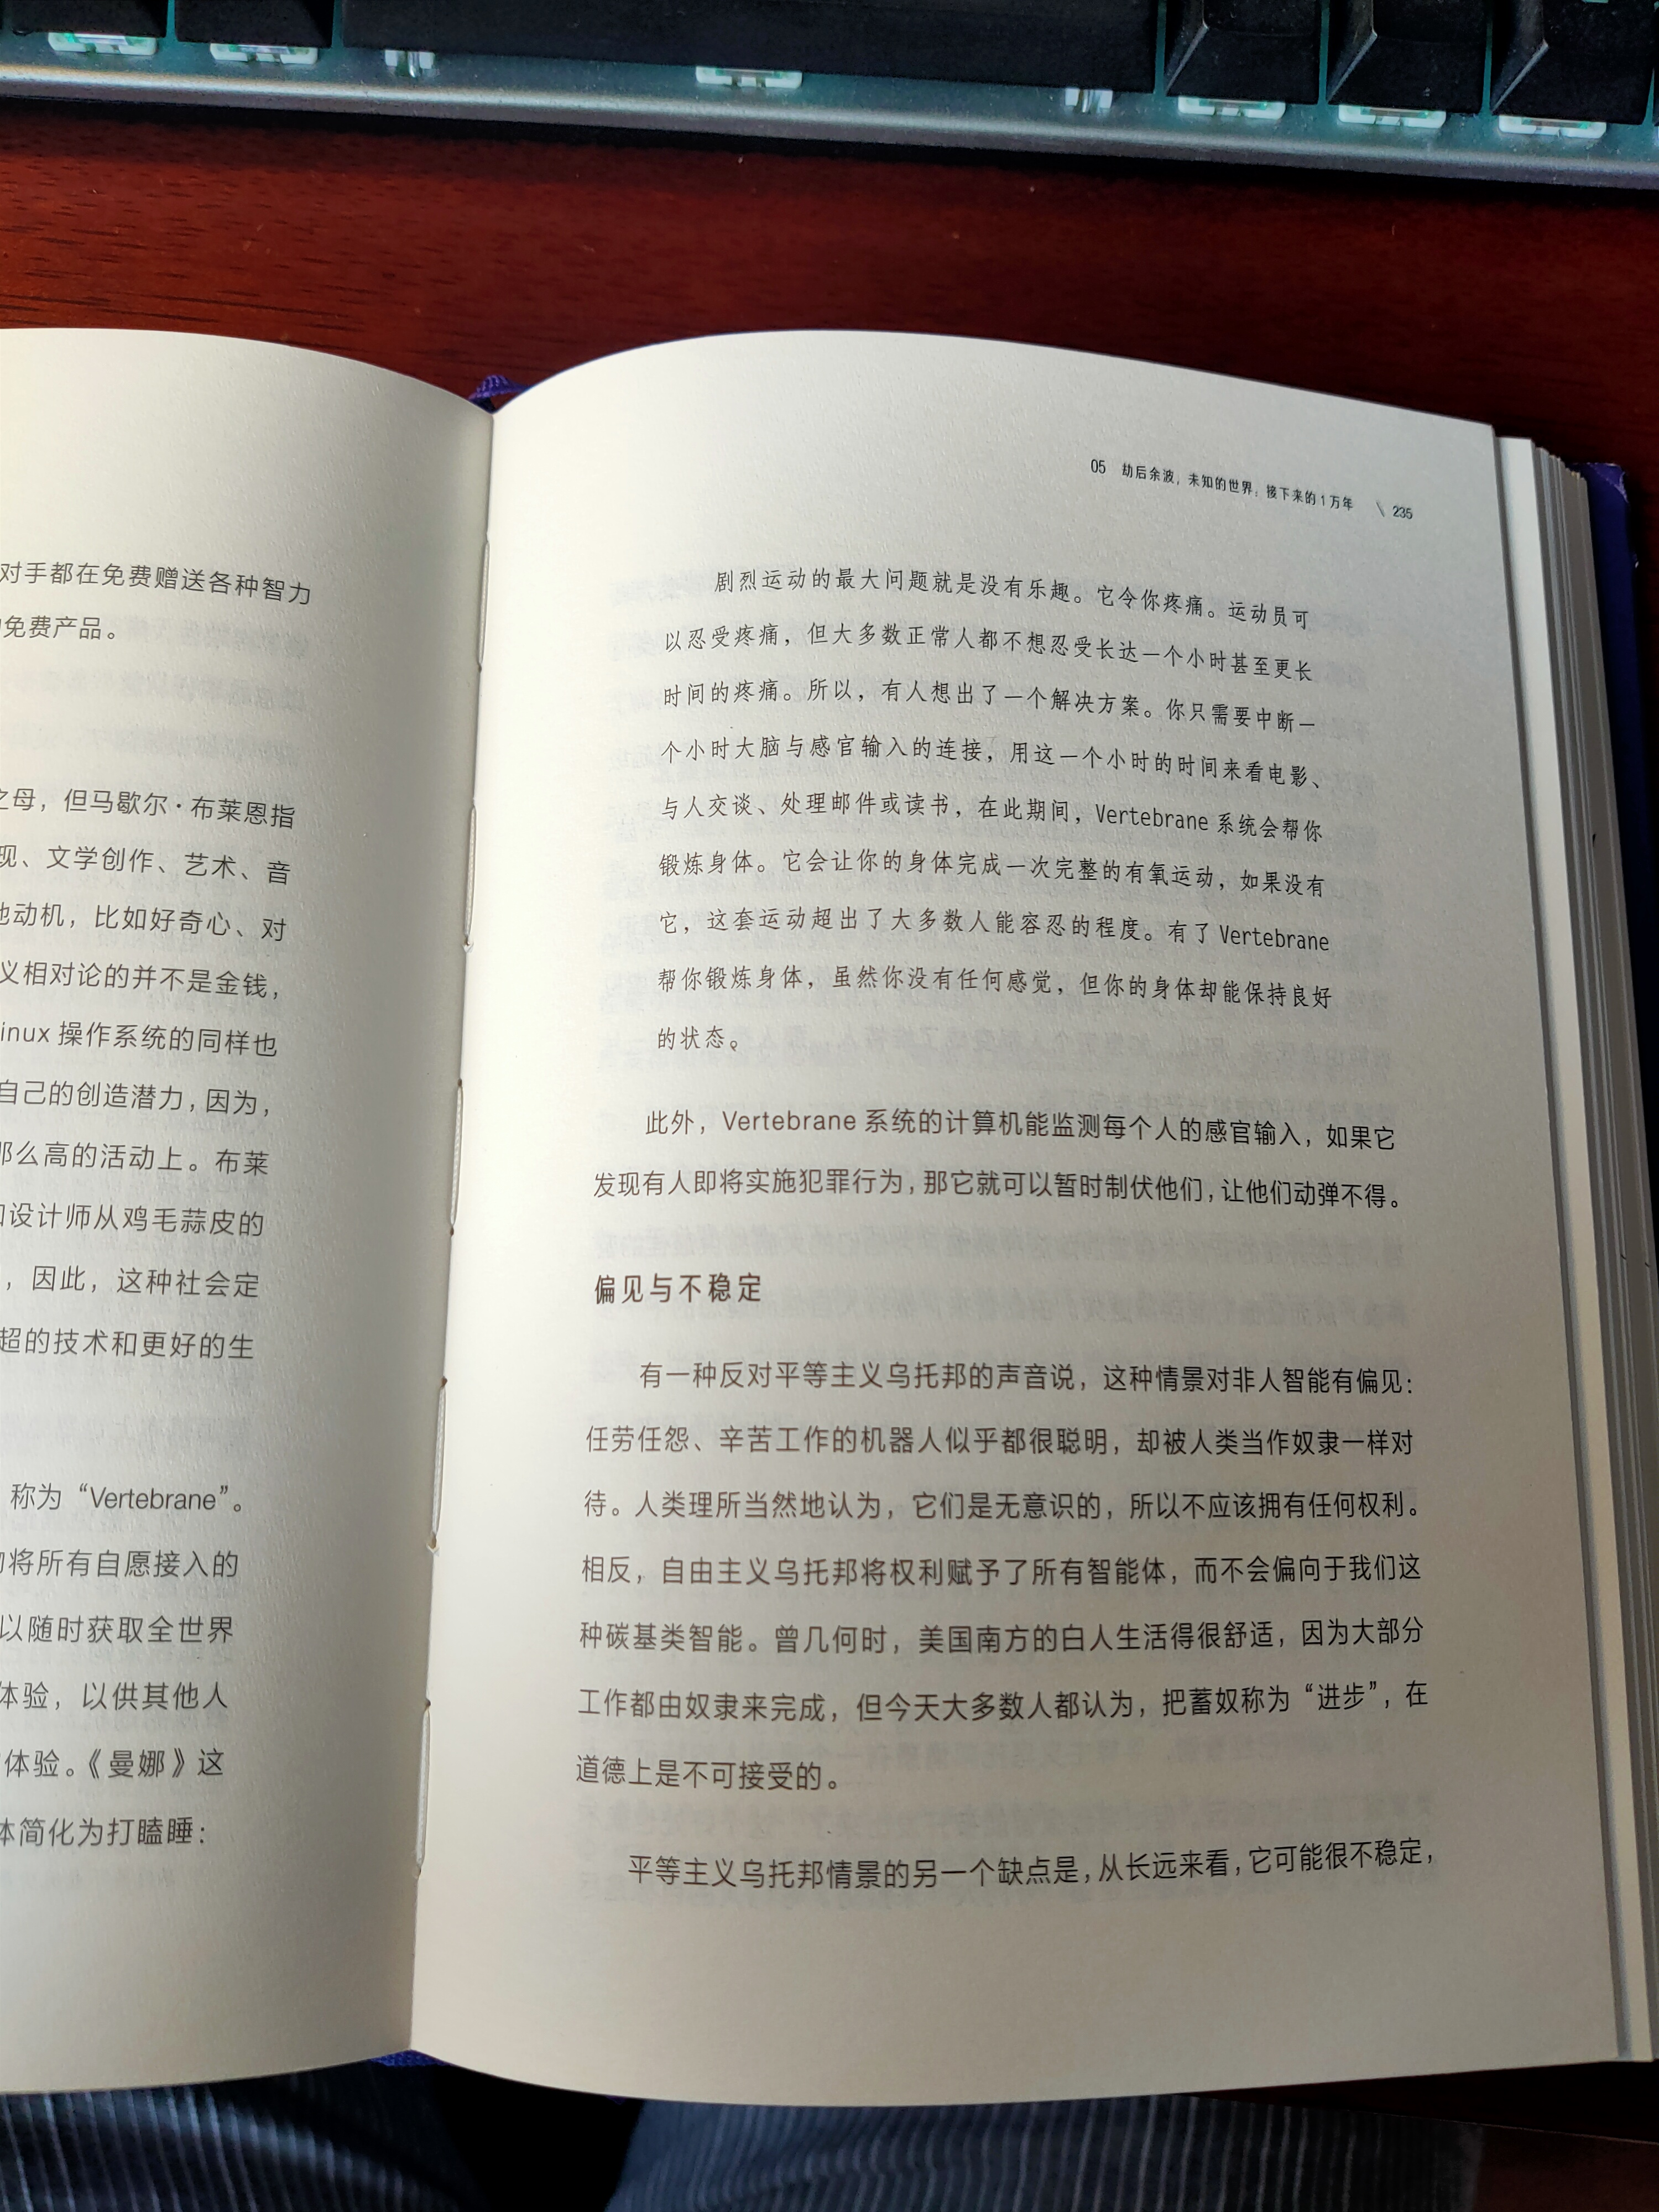book: (491, 415, 1607, 2062)
